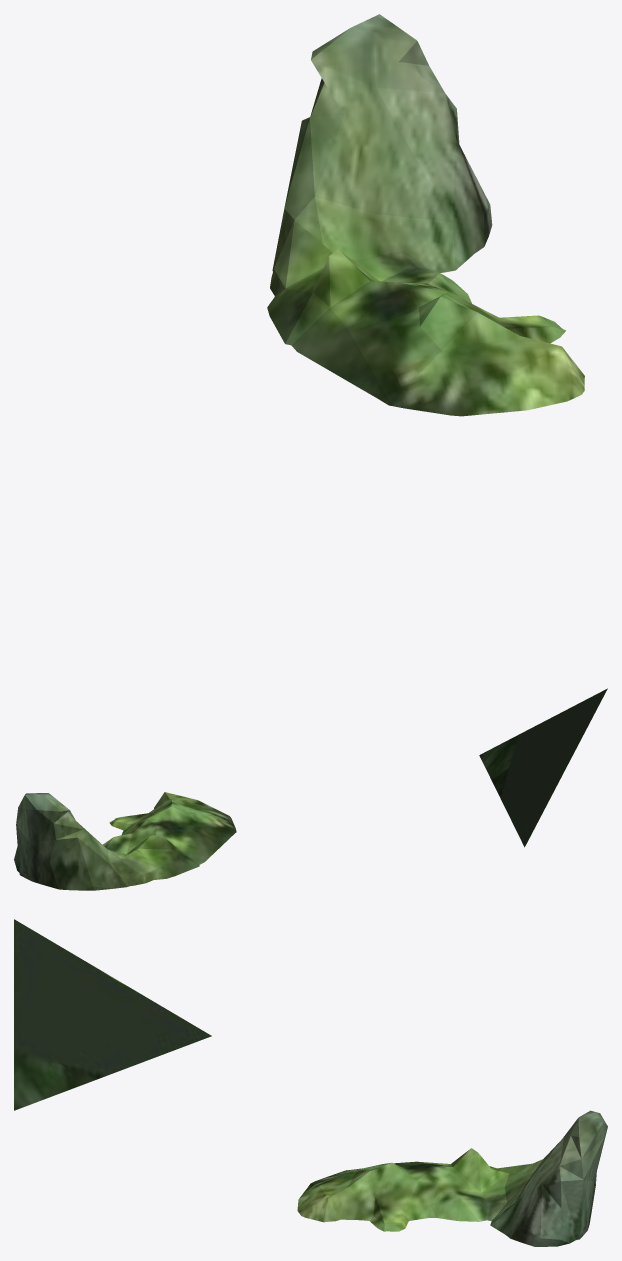
The picture shows the model from 3 angles, top to bottom: view 1: azimuth 30°, elevation 25°; view 2: azimuth 150°, elevation 25°; view 3: azimuth 270°, elevation 25°; orthographic projection. The views are drawn at different scales.
Bounding box in the file's own units: 1.95 × 0.5031 × 2.31.
1 material, 1 textured.
